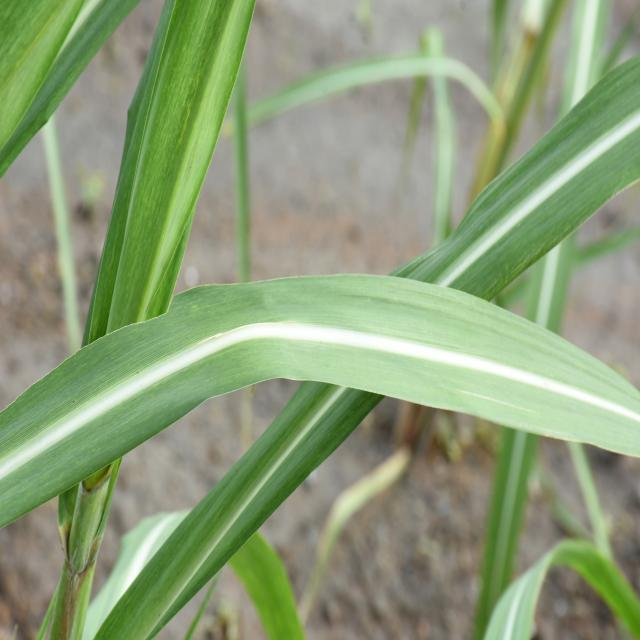Sugarcane: (0, 273, 640, 533)
